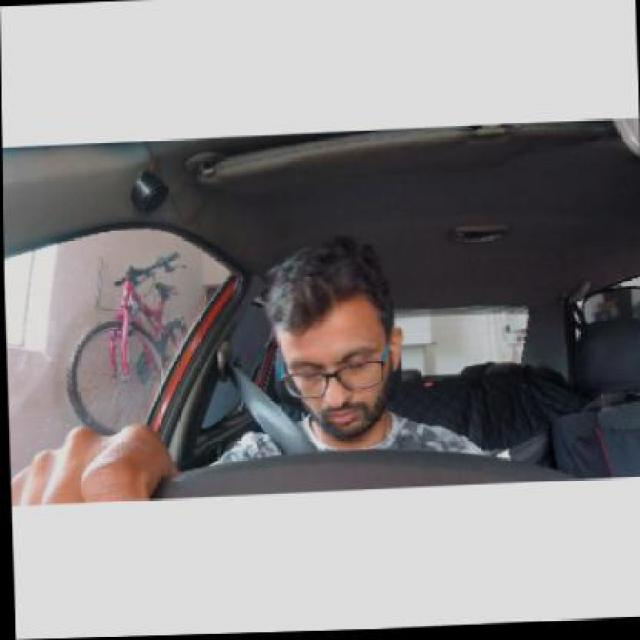drowsy: (247, 242, 420, 444)
